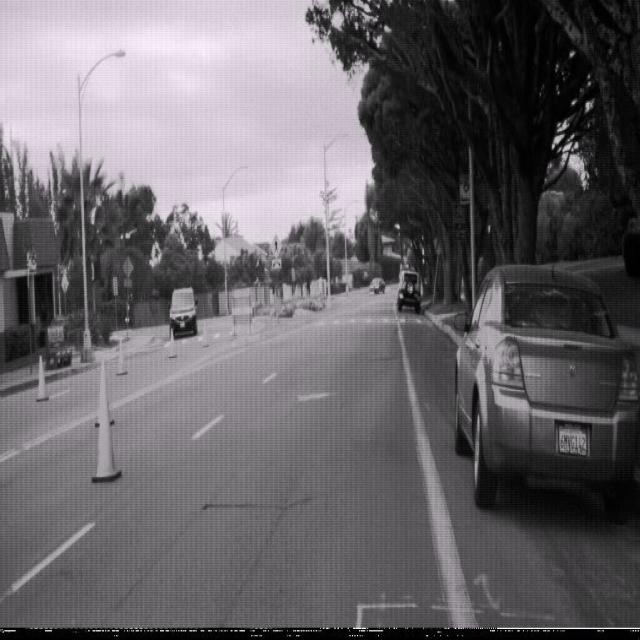pedestrianCrossing: (269, 232, 283, 258)
